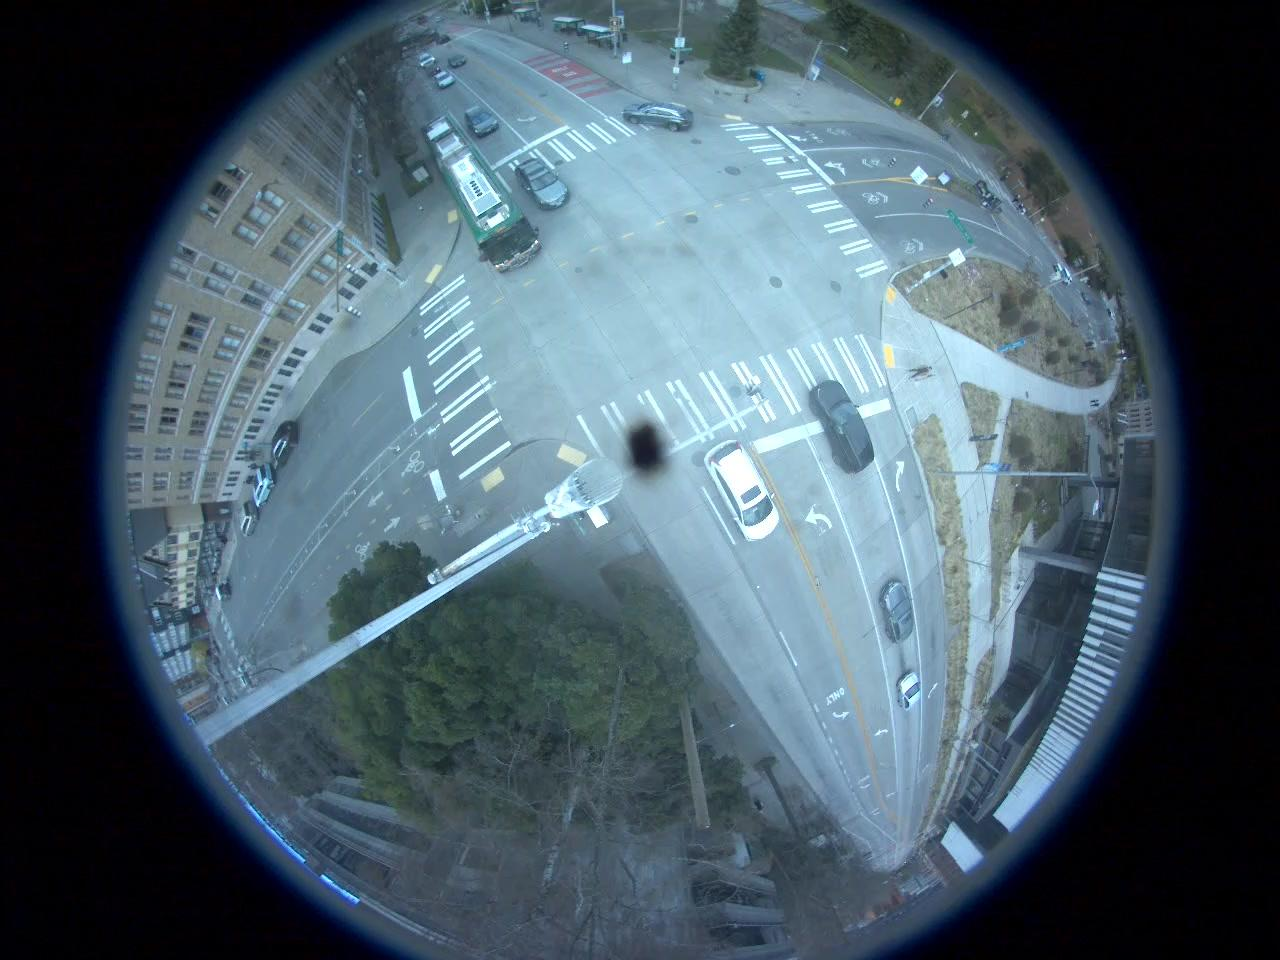bus: (422, 118, 535, 268)
car: (808, 380, 879, 474), (710, 444, 781, 538), (515, 157, 573, 210), (878, 576, 916, 642), (624, 102, 700, 130), (265, 417, 301, 472), (896, 668, 926, 711), (252, 464, 276, 508), (235, 500, 262, 538), (466, 106, 496, 134), (446, 52, 471, 70), (434, 71, 456, 90)
person: (908, 366, 936, 378)
